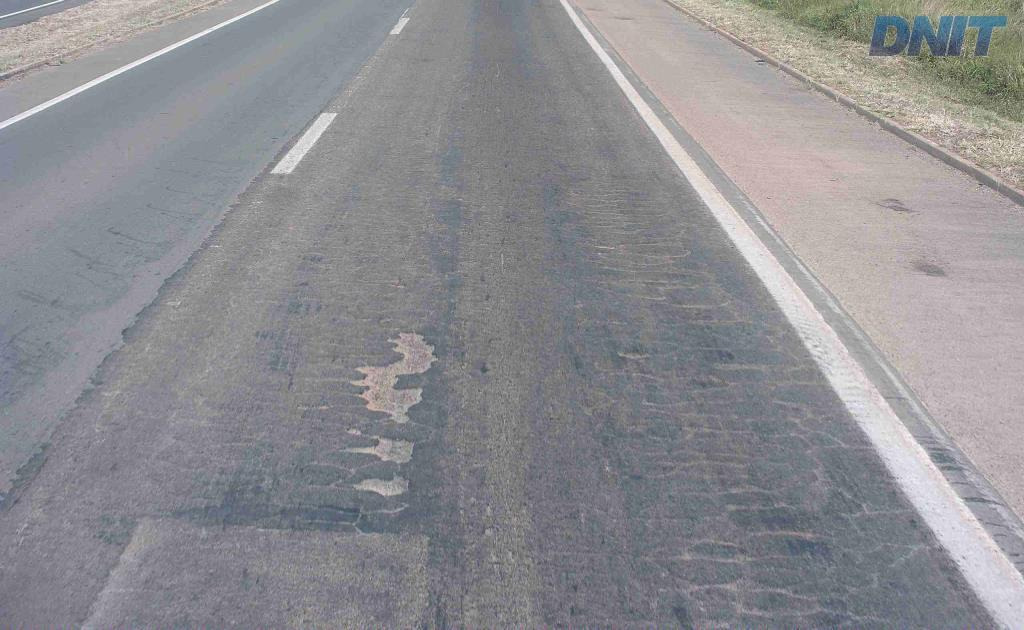pothole: (343, 319, 437, 427), (339, 427, 423, 498)
